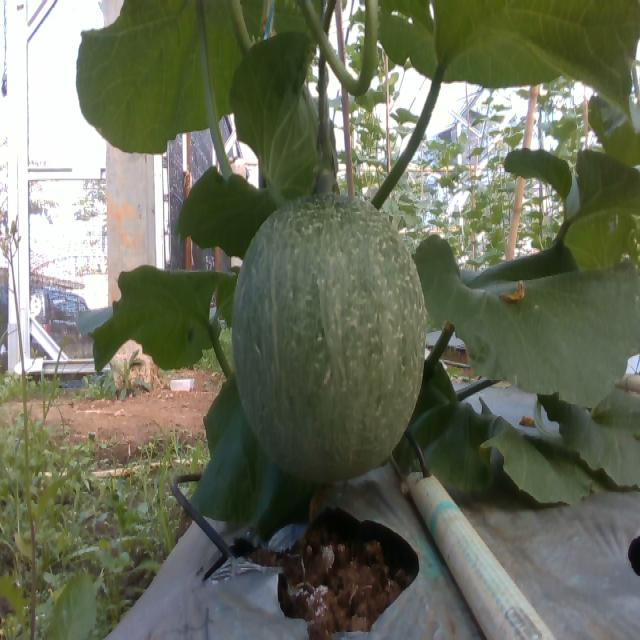melon: (233, 195, 426, 483)
